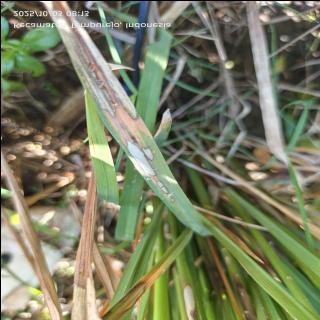Blast: (66, 43, 143, 122), (113, 127, 188, 206)
